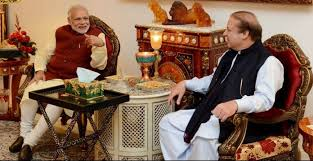Good: (7, 6, 288, 161)
